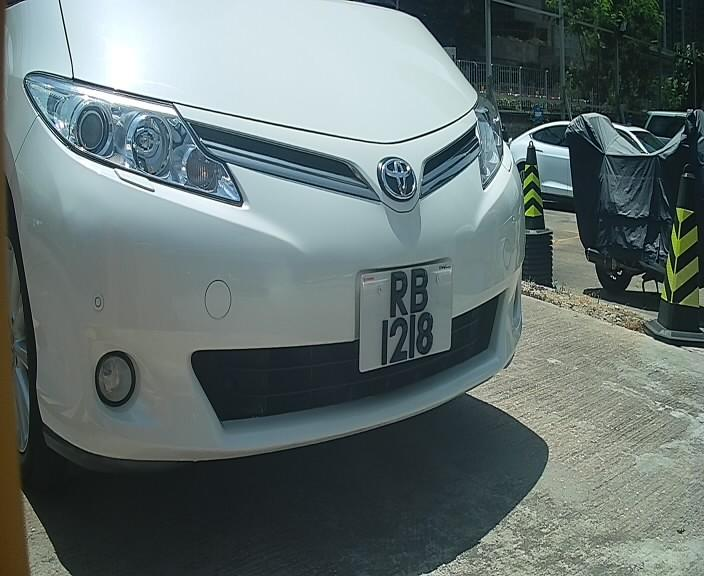License Plate: (349, 250, 456, 381)
